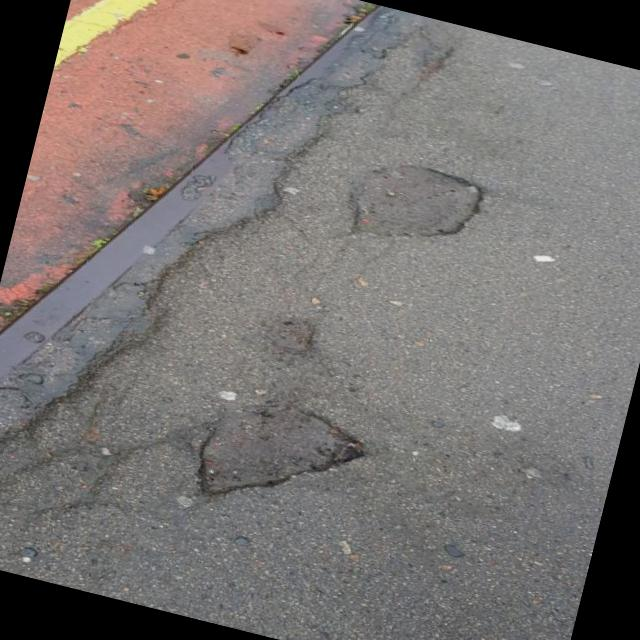pothole: (178, 379, 380, 530), (341, 148, 494, 262)
